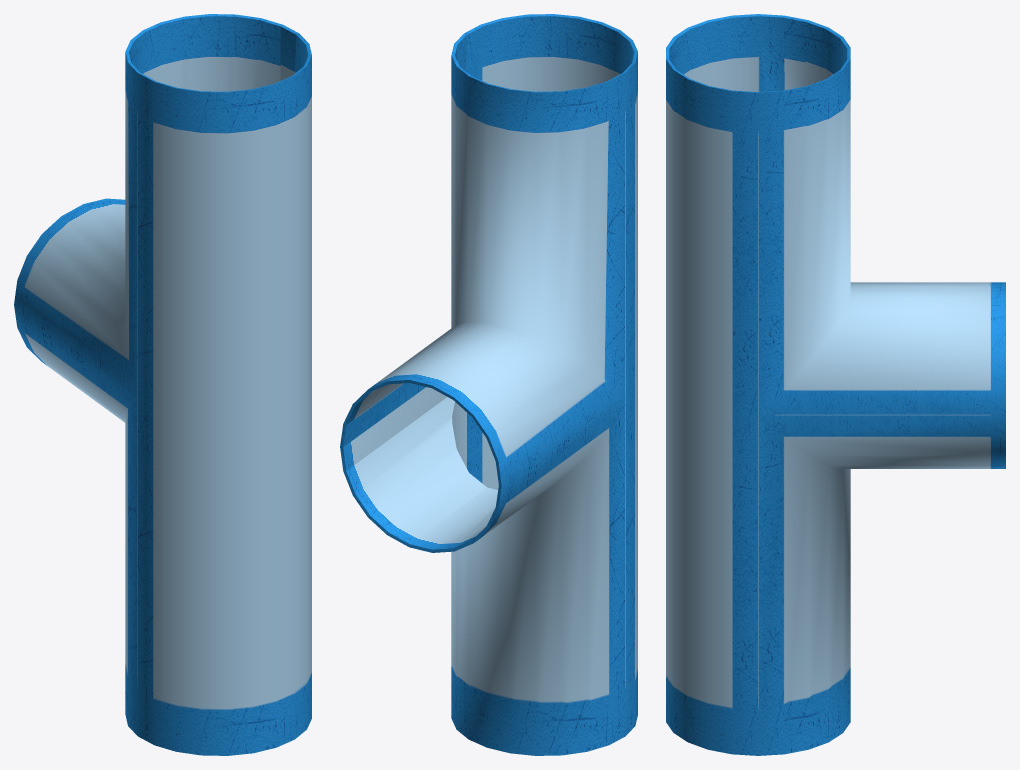
Rendered from FUT0110023.fbx.
3 renders of one model, left to right at view 1: azimuth 30°, elevation 25°; view 2: azimuth 150°, elevation 25°; view 3: azimuth 270°, elevation 25°, orthographic.
Parts seen in each view (by area): view 1: smFUT0110023; view 2: smFUT0110023; view 3: smFUT0110023.
Part boxes in pixels (x1,y1,x2,y2): smFUT0110023: [14, 14, 311, 755]; smFUT0110023: [340, 14, 637, 755]; smFUT0110023: [666, 14, 1005, 755].
Bounding box in the file's own units: 215 × 841 × 391.
Materials: 1 (1 with a texture image).
